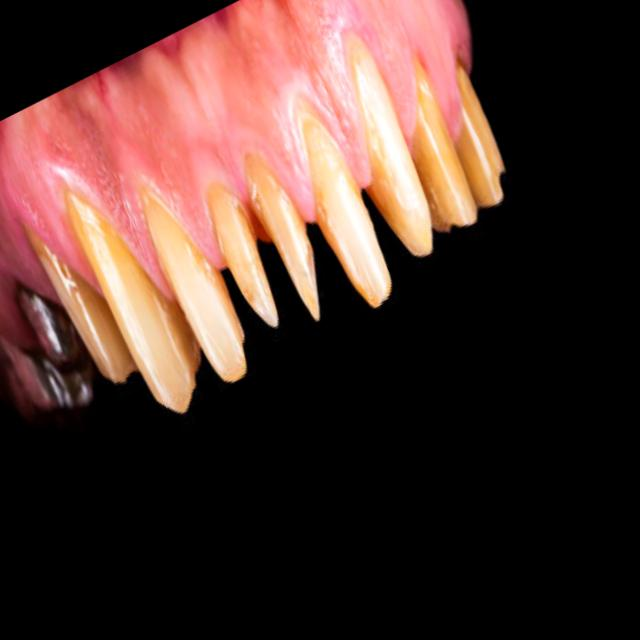calculus: (306, 111, 362, 197), (458, 63, 486, 120)
